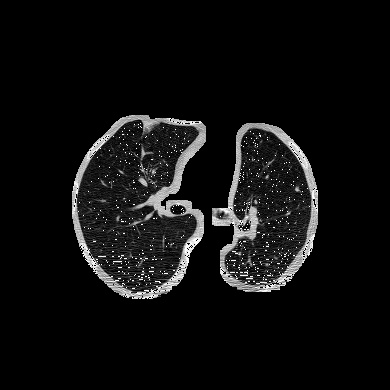PN: (295, 187, 299, 191)
